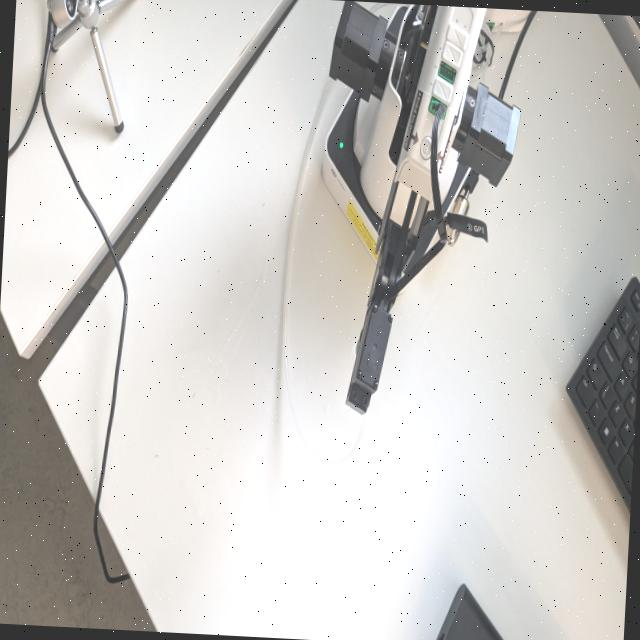Robot-end-effector-HF8z: (338, 296, 396, 422)
